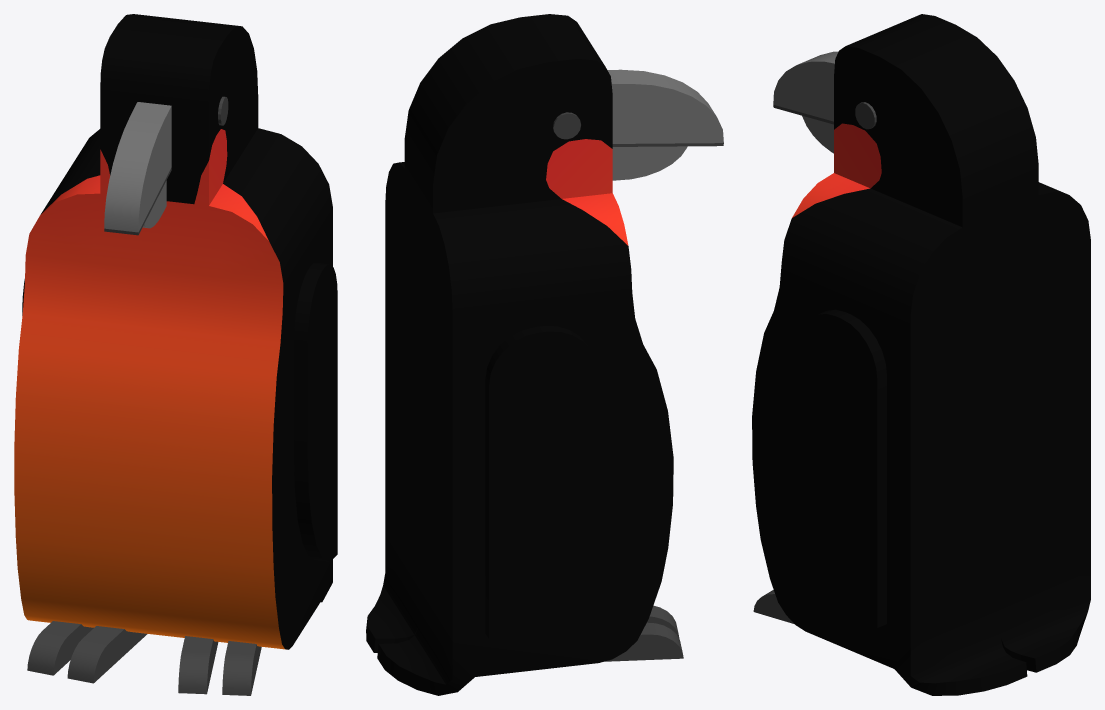
Rendered from penguin.glb.
The picture shows the model from 3 angles, left to right: view 1: azimuth 30°, elevation 25°; view 2: azimuth 150°, elevation 25°; view 3: azimuth 270°, elevation 25°; orthographic projection. The views are drawn at different scales.
Visible parts, largest first — view 1: Cube.110; view 2: Cube.110; view 3: Cube.110.
Boxes of the visible parts, x1,y1,x2,y2 form: Cube.110: (14,14,337,695); Cube.110: (366,14,723,695); Cube.110: (752,14,1090,695).
Size of the model in its own units: 1.16 by 2.21 by 1.16.
Materials: 1 (1 with a texture image).
